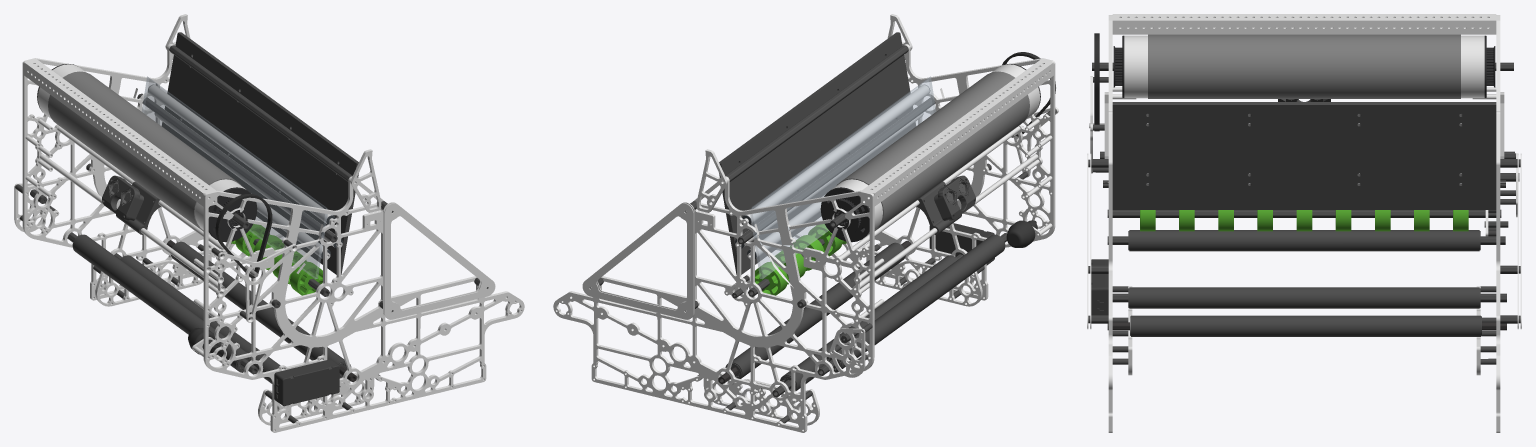
Rendered from 2910-shooter.glb.
3 views of the same model, side by side, from view 1: azimuth 30°, elevation 25°; view 2: azimuth 150°, elevation 25°; view 3: azimuth 270°, elevation 25° (orthographic). The views are drawn at different scales.
Parts seen in each view (by area): view 1: 32-01-24, 32-01-30, 32-01-54, Main Drum DKL Grip Tape, 32-01-26, 32-01-52, Robot Radio (VH-109), 2.25" Compliant Wheel (35A, 1" Wide, 1/2" Hex Bore), 32-01-29, 410-5M-09; view 2: 32-01-24, 32-01-30, 32-01-54, 32-01-26, Main Drum DKL Grip Tape, 32-01-52, 2.25" Compliant Wheel (35A, 1" Wide, 1/2" Hex Bore), 32-01-29, Robot Radio (VH-109), Robot Signal Light (RSL) (Allen Bradley); view 3: 32-01-30, 32-01-26, Main Drum DKL Grip Tape, 32-01-24, 2.25" Compliant Wheel (35A, 1" Wide, 1/2" Hex Bore), 32-01-52, 32-01-29, Robot Radio (VH-109), 410-5M-09.
Part boxes in pixels (x1,y1,x2,y2): 32-01-24: (14, 44, 524, 432); 32-01-30: (15, 32, 488, 423); 32-01-54: (141, 76, 327, 278); Main Drum DKL Grip Tape: (48, 71, 241, 231); 32-01-26: (72, 234, 351, 383); 32-01-52: (95, 14, 495, 425); Robot Radio (VH-109): (274, 359, 339, 406); 2.25" Compliant Wheel (35A, 1" Wide, 1/2" Hex Bore): (231, 224, 322, 295); 32-01-29: (37, 64, 257, 242); 410-5M-09: (215, 194, 272, 278); 32-01-24: (553, 44, 1058, 432); 32-01-30: (589, 32, 1056, 423); 32-01-54: (750, 76, 936, 279); 32-01-26: (725, 234, 1005, 390); Main Drum DKL Grip Tape: (836, 71, 1029, 230); 32-01-52: (582, 14, 1041, 425); 2.25" Compliant Wheel (35A, 1" Wide, 1/2" Hex Bore): (755, 224, 846, 295); 32-01-29: (820, 64, 1040, 242); Robot Radio (VH-109): (929, 223, 994, 265); Robot Signal Light (RSL) (Allen Bradley): (1006, 220, 1037, 247); 32-01-30: (1088, 62, 1520, 364); 32-01-26: (1129, 230, 1480, 336); Main Drum DKL Grip Tape: (1148, 34, 1460, 98); 32-01-24: (1090, 14, 1518, 432); 2.25" Compliant Wheel (35A, 1" Wide, 1/2" Hex Bore): (1140, 210, 1468, 231); 32-01-52: (1087, 92, 1521, 375); 32-01-29: (1113, 35, 1495, 97); Robot Radio (VH-109): (1091, 259, 1108, 315); 410-5M-09: (1094, 33, 1099, 131).
Bounding box in the file's own units: 0.6406 × 0.5014 × 0.7049.
